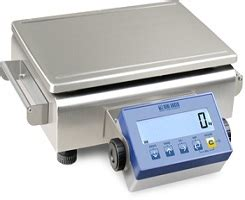Industrial Scale: (1, 1, 245, 192)
